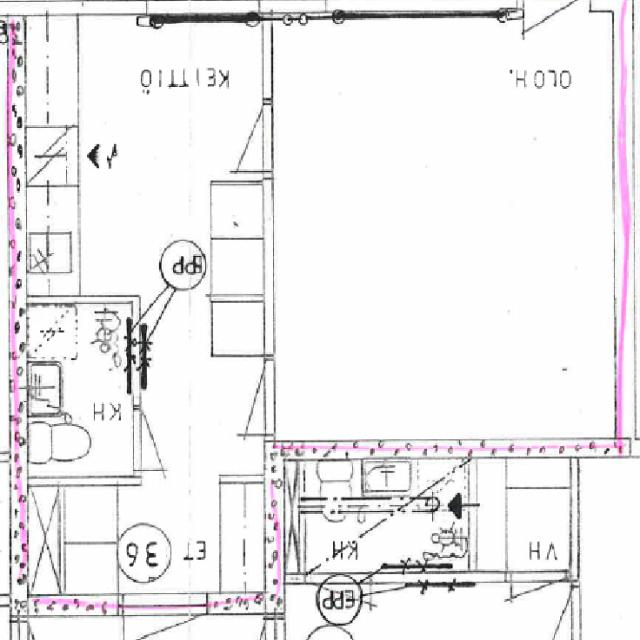door: (522, 0, 590, 92), (196, 358, 274, 434), (202, 103, 274, 171), (132, 407, 196, 471), (522, 0, 590, 16)
